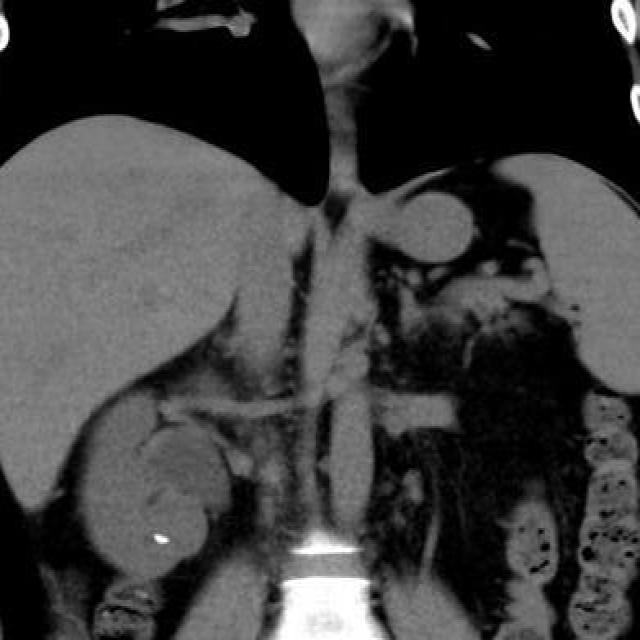Tas_Var: (152, 528, 175, 556)
